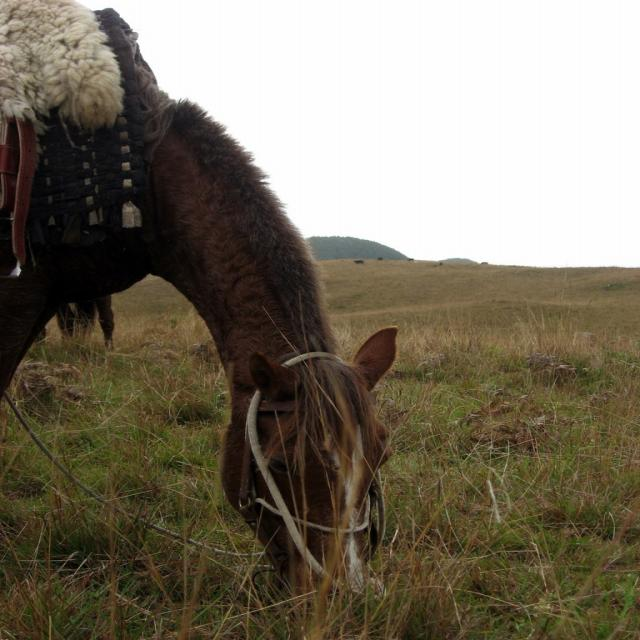Horse: (0, 0, 399, 622)
